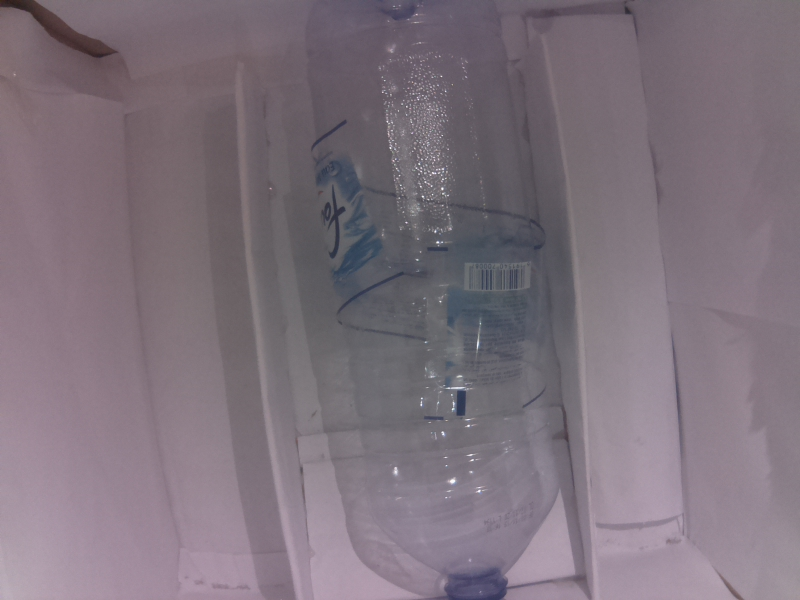botolplastik: (306, 5, 561, 600)
